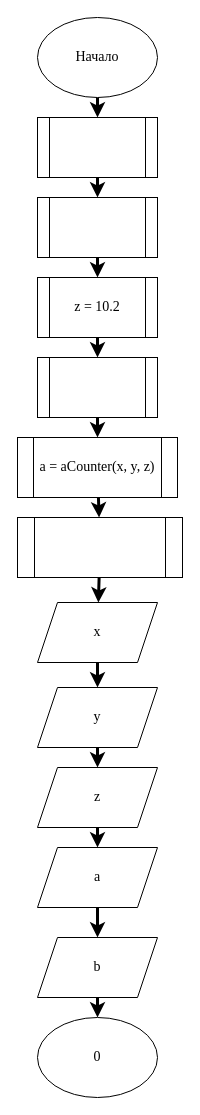
The diagram is 200 pixels wide and 1115 high, and some of its shapes have lost their labels. The shapes that lost their labels are listed below. From the top down, each one's centre as x and y in pixels, then its label:
point 97,147: x = 2.2
point 97,227: y = 9.2
point 97,387: a, b
point 99,547: b = bCounter(x, y, z)
